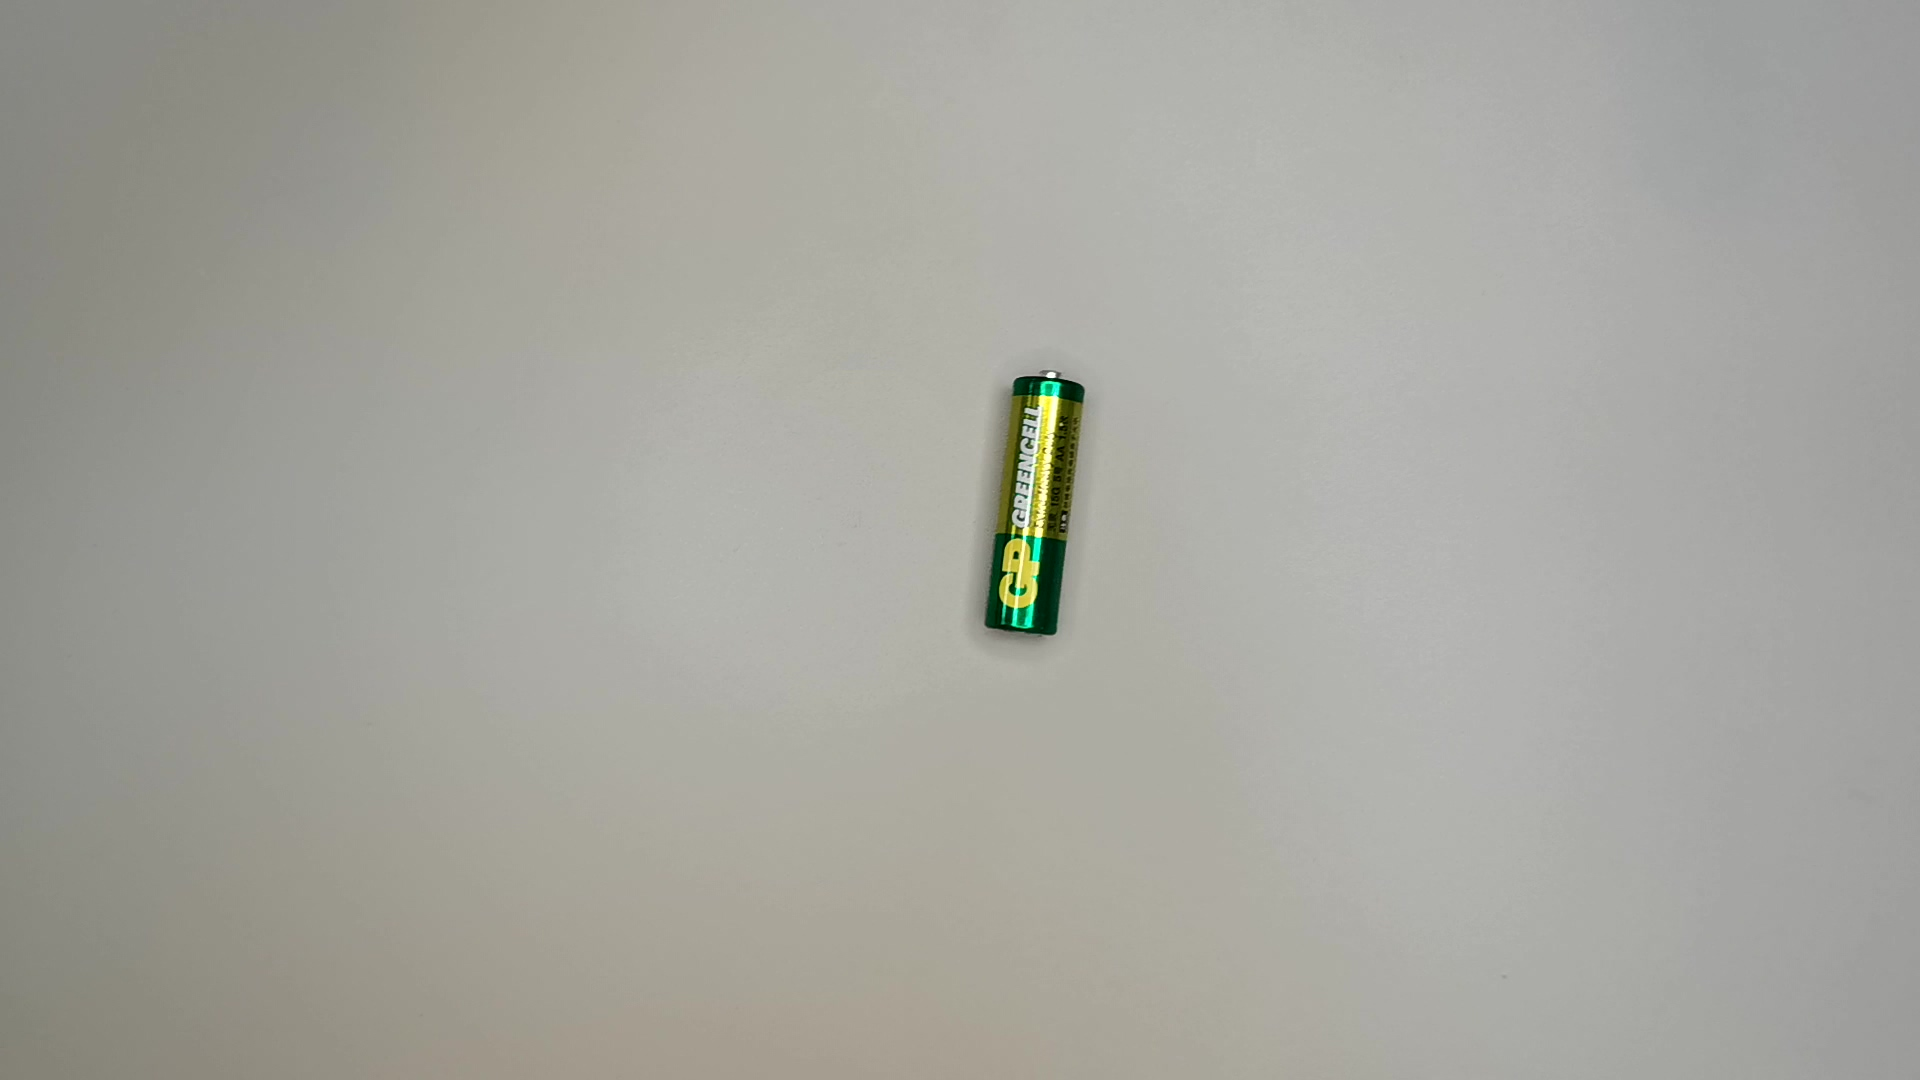battery: (975, 365, 1095, 640)
